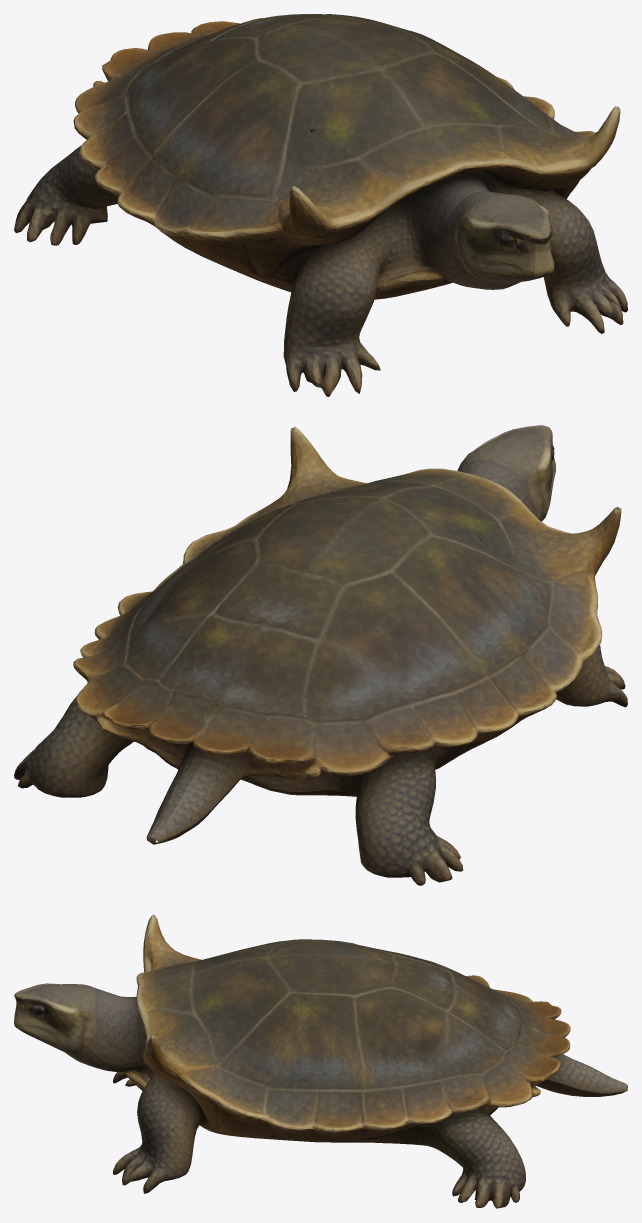
The picture shows the model from 3 angles, top to bottom: view 1: azimuth 30°, elevation 25°; view 2: azimuth 150°, elevation 25°; view 3: azimuth 270°, elevation 25°; orthographic projection. The views are drawn at different scales.
Parts seen in each view (by area): view 1: world; view 2: world; view 3: world.
Part boxes in pixels (box(x1,y1,x2,y2)): world: box(14, 14, 627, 396); world: box(14, 425, 627, 885); world: box(14, 914, 627, 1208).
Bounding box in the file's own units: 2.09 × 1.05 × 3.3.
Materials: 1 (1 with a texture image).
